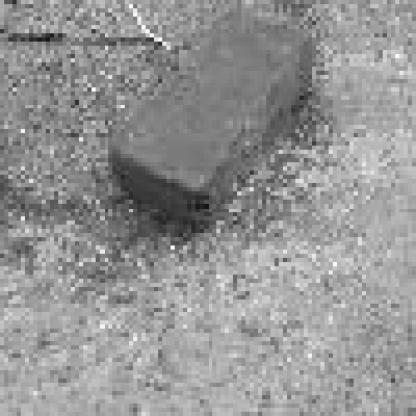brick: (106, 9, 318, 226)
